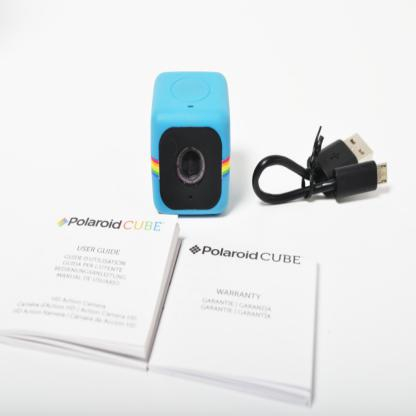Camera: (144, 76, 244, 221)
